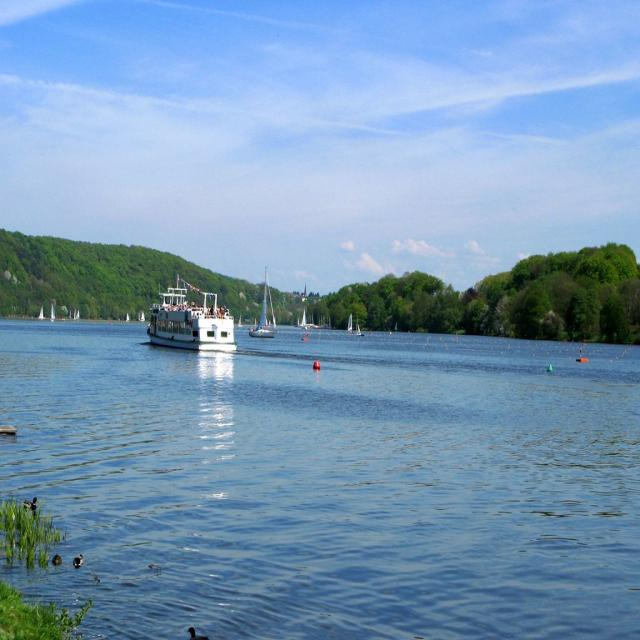buoy: (570, 329, 595, 371), (302, 359, 326, 374)
passenger ship: (144, 274, 228, 355)
sailboat: (251, 253, 284, 342), (292, 305, 312, 332), (342, 300, 355, 334)
